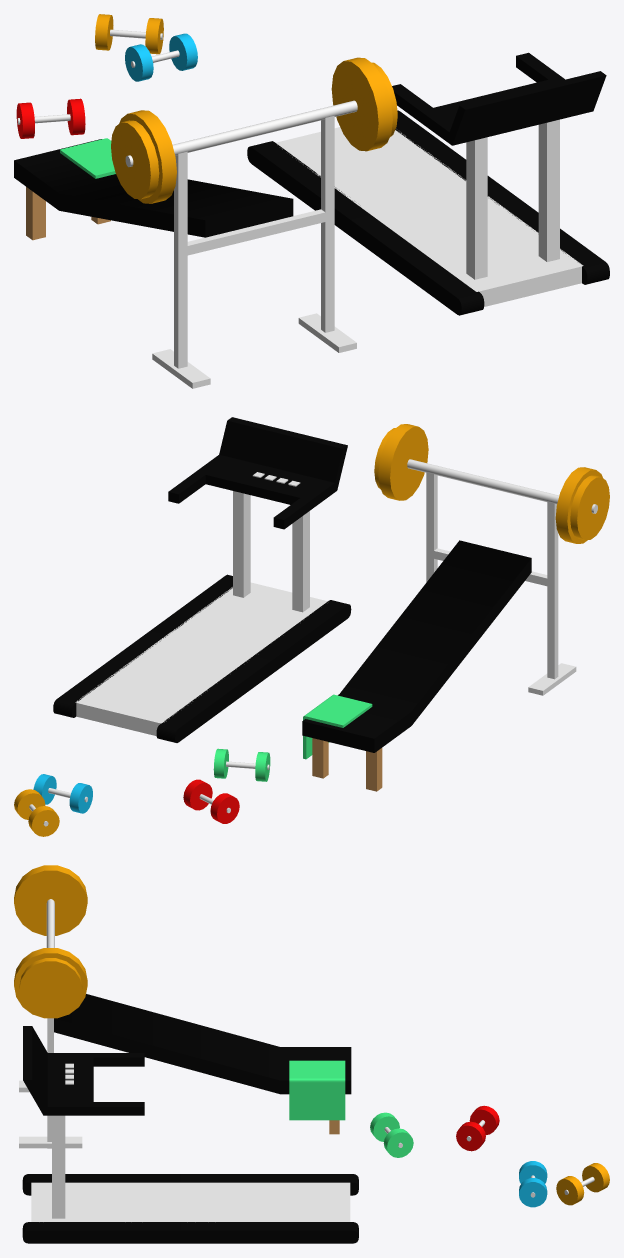
File: Gymset.glb
3 views of the same model, one above another, from view 1: azimuth 30°, elevation 25°; view 2: azimuth 150°, elevation 25°; view 3: azimuth 270°, elevation 25° (orthographic). The views are drawn at different scales.
Visible parts, largest first — view 1: node-0; view 2: node-0; view 3: node-0.
Boxes of the visible parts, left/top/right/bottom form: node-0: left=14, top=14, right=609, bottom=388; node-0: left=14, top=417, right=609, bottom=836; node-0: left=14, top=865, right=609, bottom=1243.
Size of the model in its own units: 162637 by 90597 by 230790.
